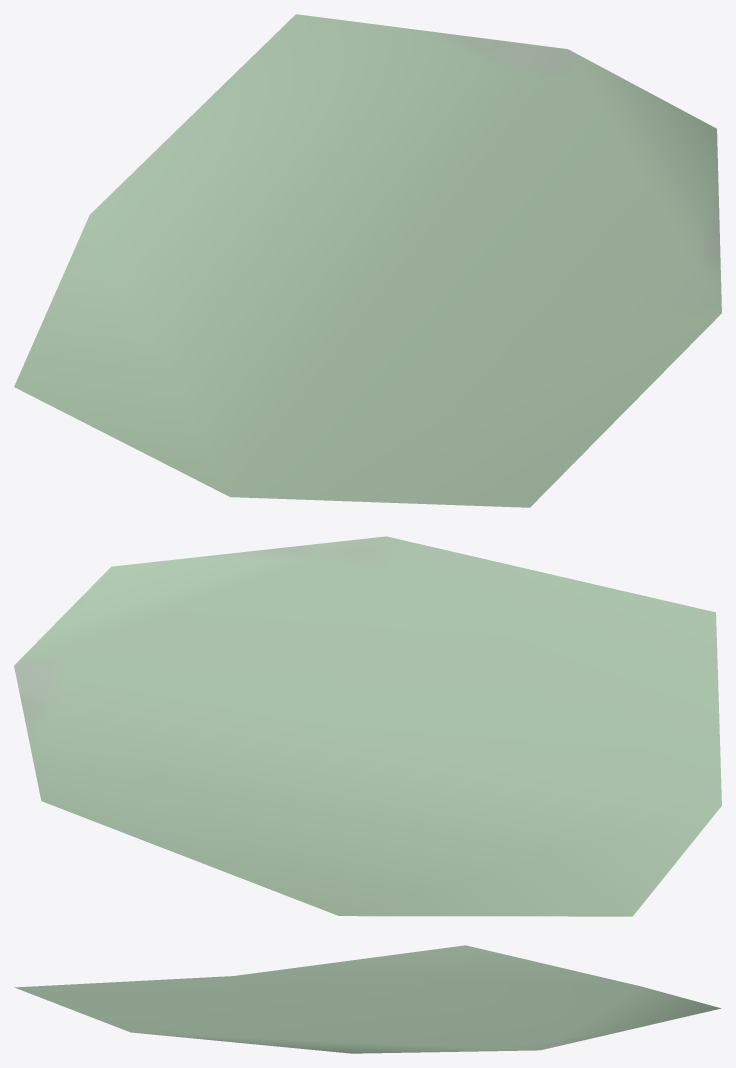
The model's file is TROLLHOLE02_HOLECAP172.fbx.
3 views of the same model, one above another, from view 1: azimuth 30°, elevation 25°; view 2: azimuth 150°, elevation 25°; view 3: azimuth 270°, elevation 25° (orthographic). The views are drawn at different scales.
Visible parts, largest first — view 1: TROLLHOLE02_HOLECAP172; view 2: TROLLHOLE02_HOLECAP172; view 3: TROLLHOLE02_HOLECAP172.
Part boxes in pixels (box(x1,y1,x2,y2)): TROLLHOLE02_HOLECAP172: box(14, 14, 721, 507); TROLLHOLE02_HOLECAP172: box(14, 536, 721, 916); TROLLHOLE02_HOLECAP172: box(14, 945, 721, 1053).
Size of the model in its own units: 30109 by 7911 by 39380.
1 material, 1 textured.
